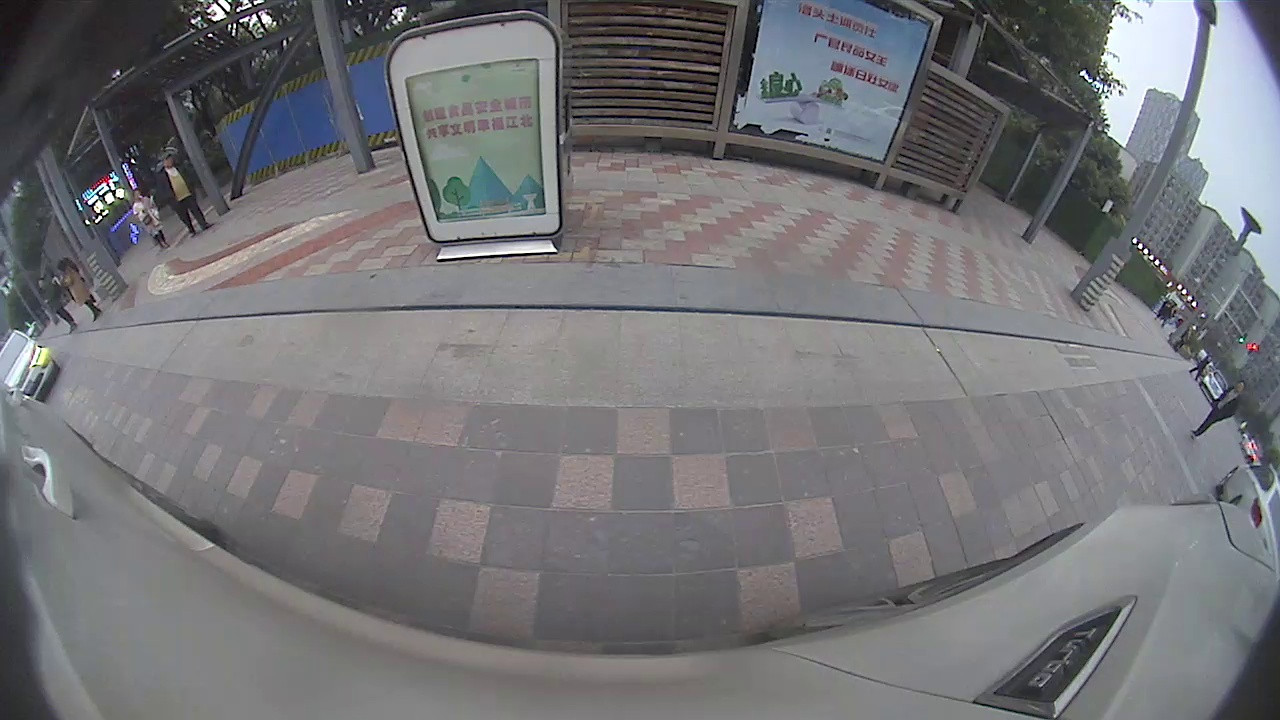car: (1, 324, 63, 404), (1189, 377, 1246, 438)
person: (157, 153, 197, 241)
